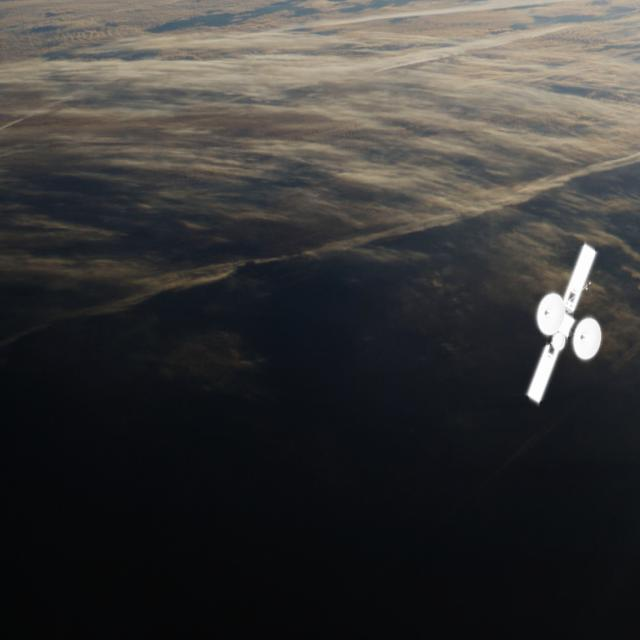satellite: (514, 242, 608, 415)
